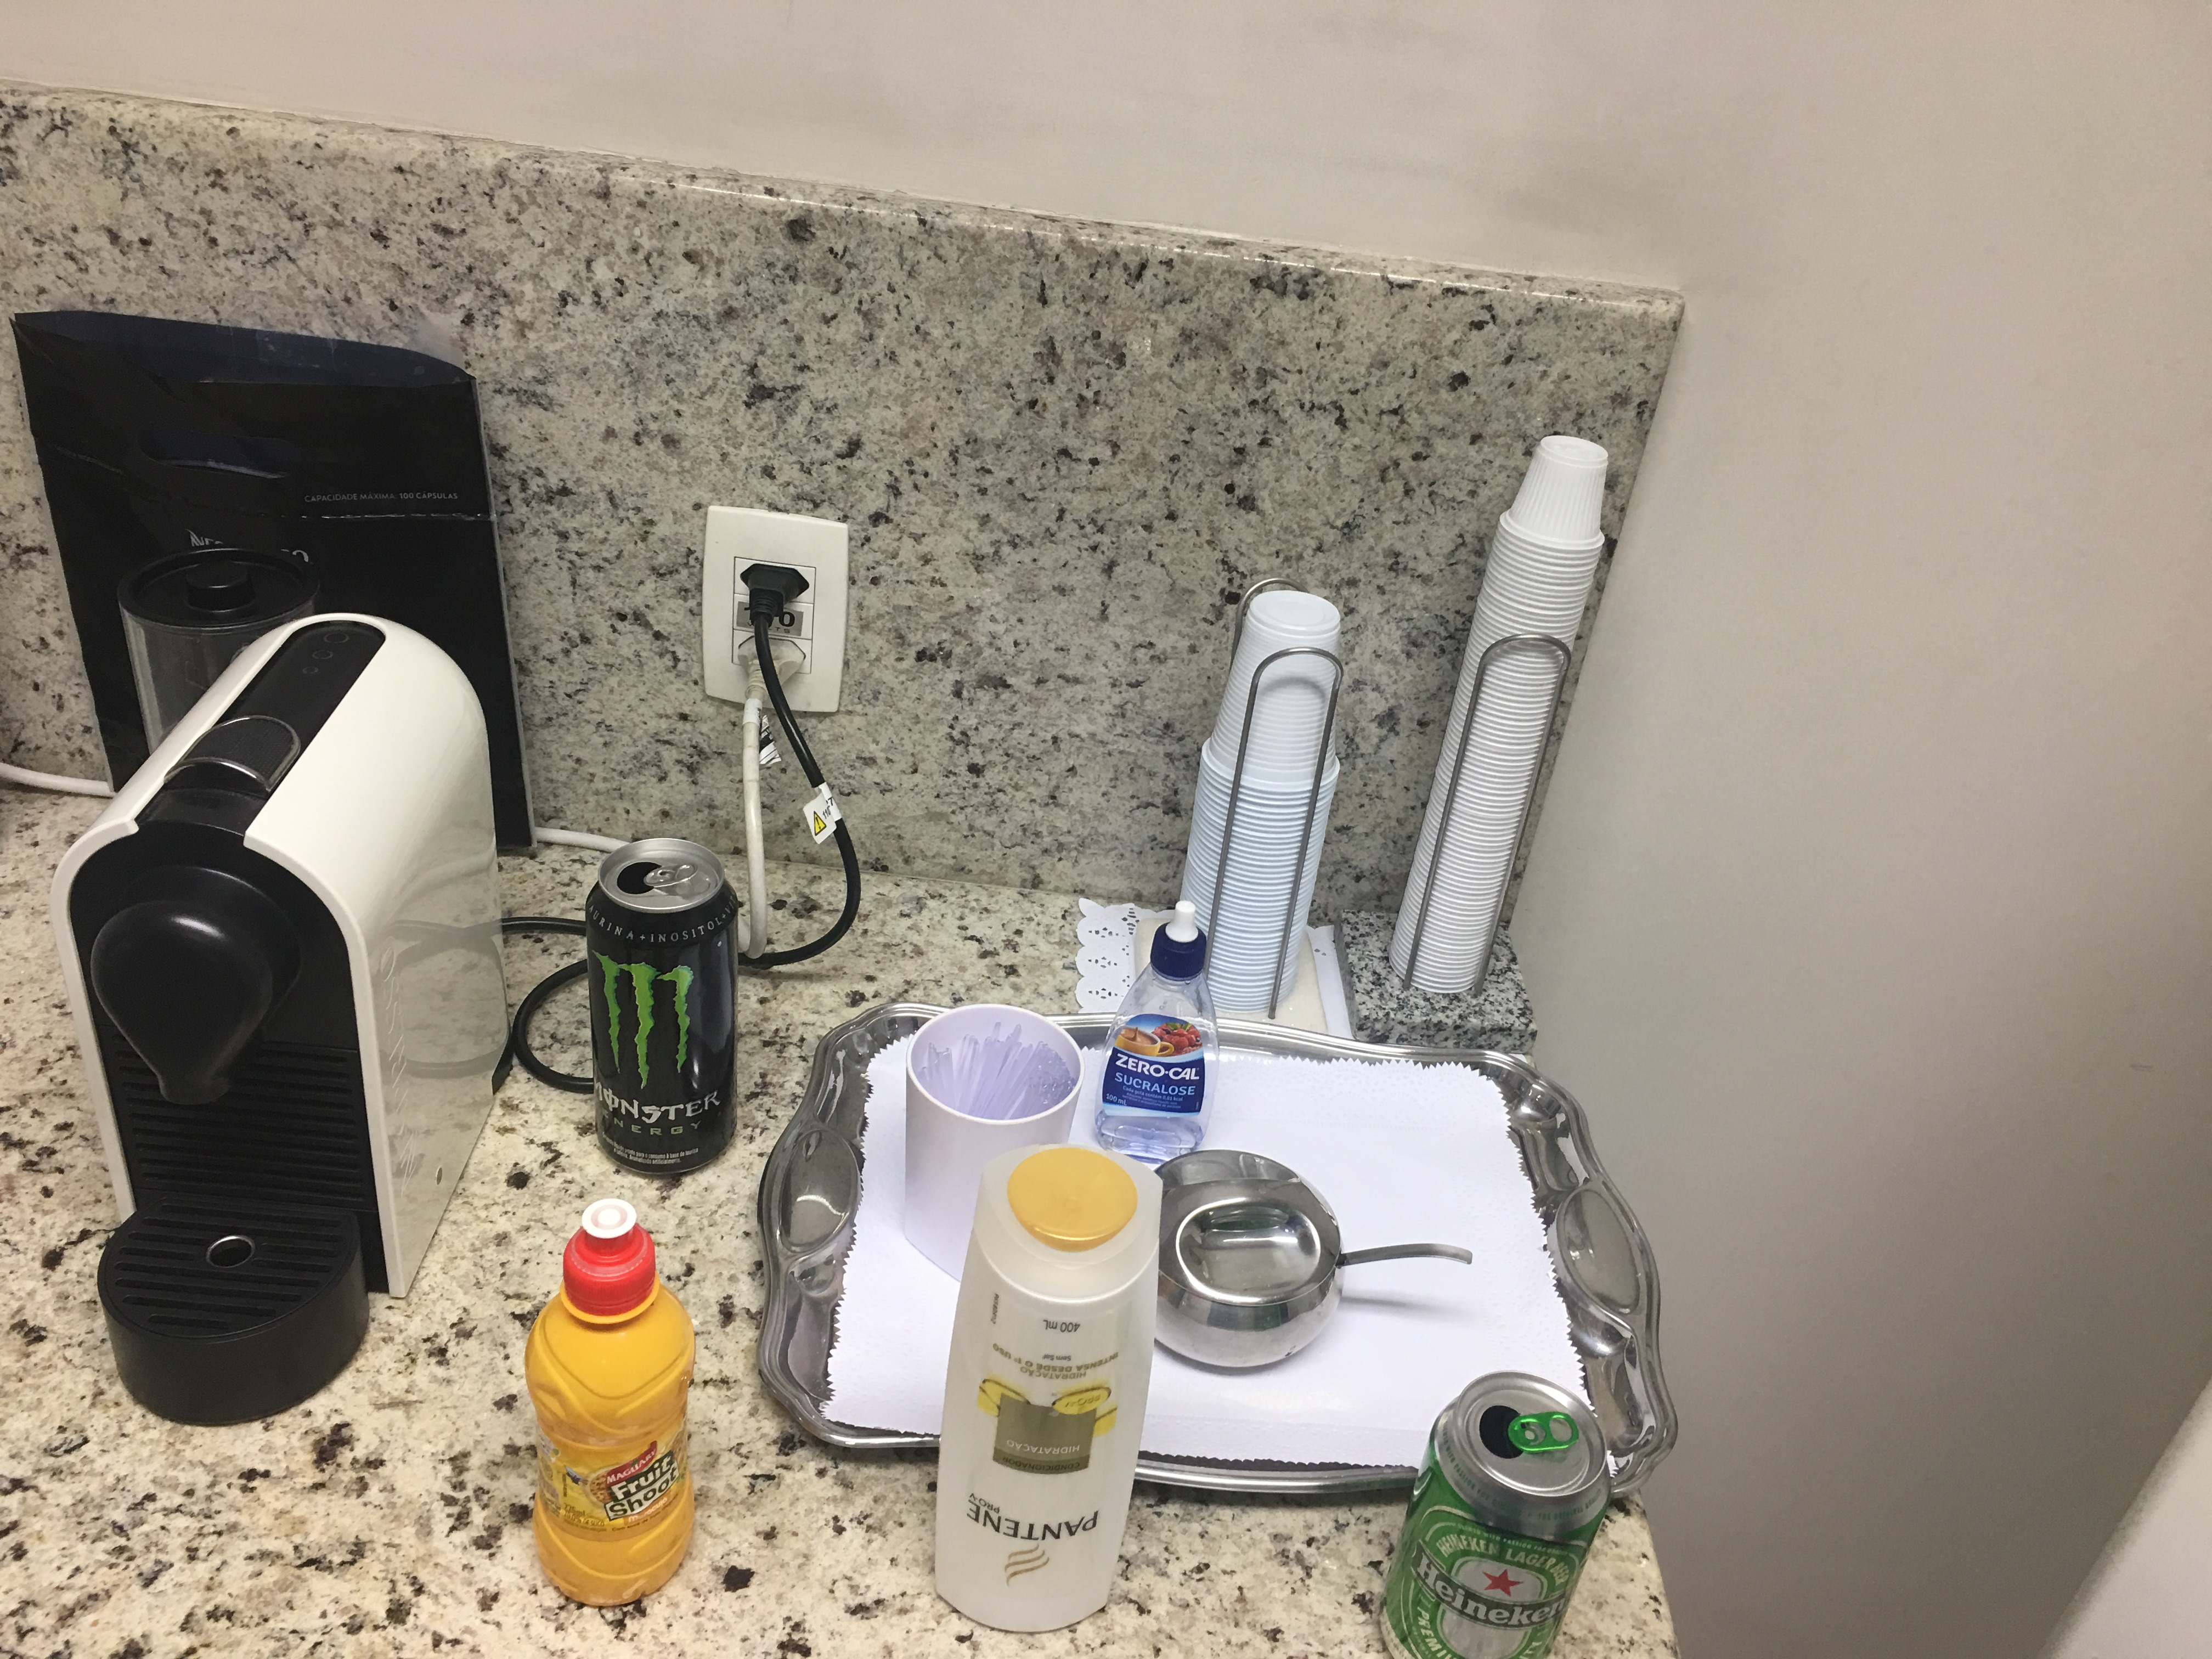heineken: (1369, 1361, 1627, 1659)
monster: (575, 826, 756, 1185)
shampoo: (923, 1140, 1172, 1643)
yellow_juice: (521, 1209, 711, 1621)
